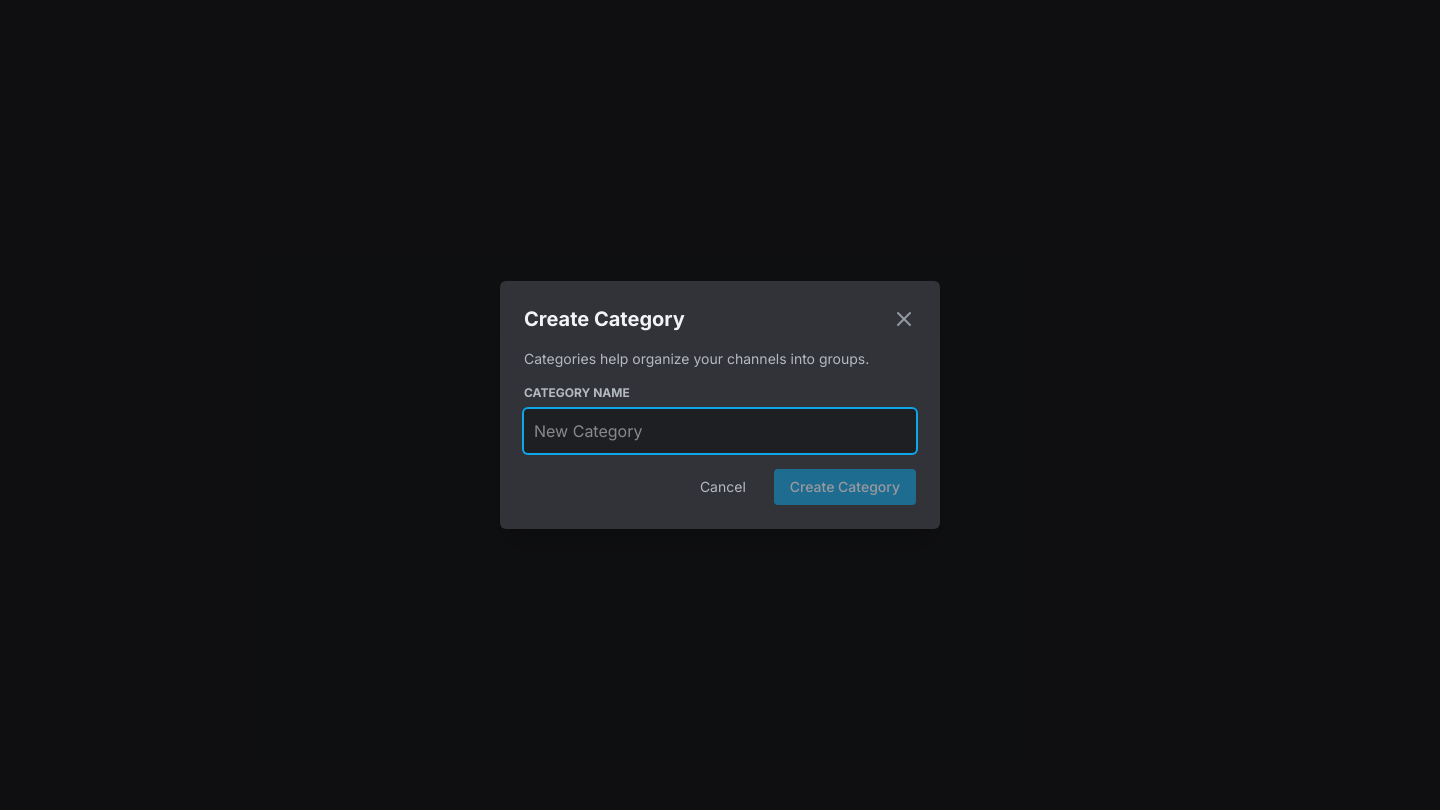
Test case: CreateCategoryModal › enables Create Category button when name is entered
In the field with placeholder "New Category": [720, 431] box x1=524 y1=409 x2=916 y2=453, type "Text Channels"
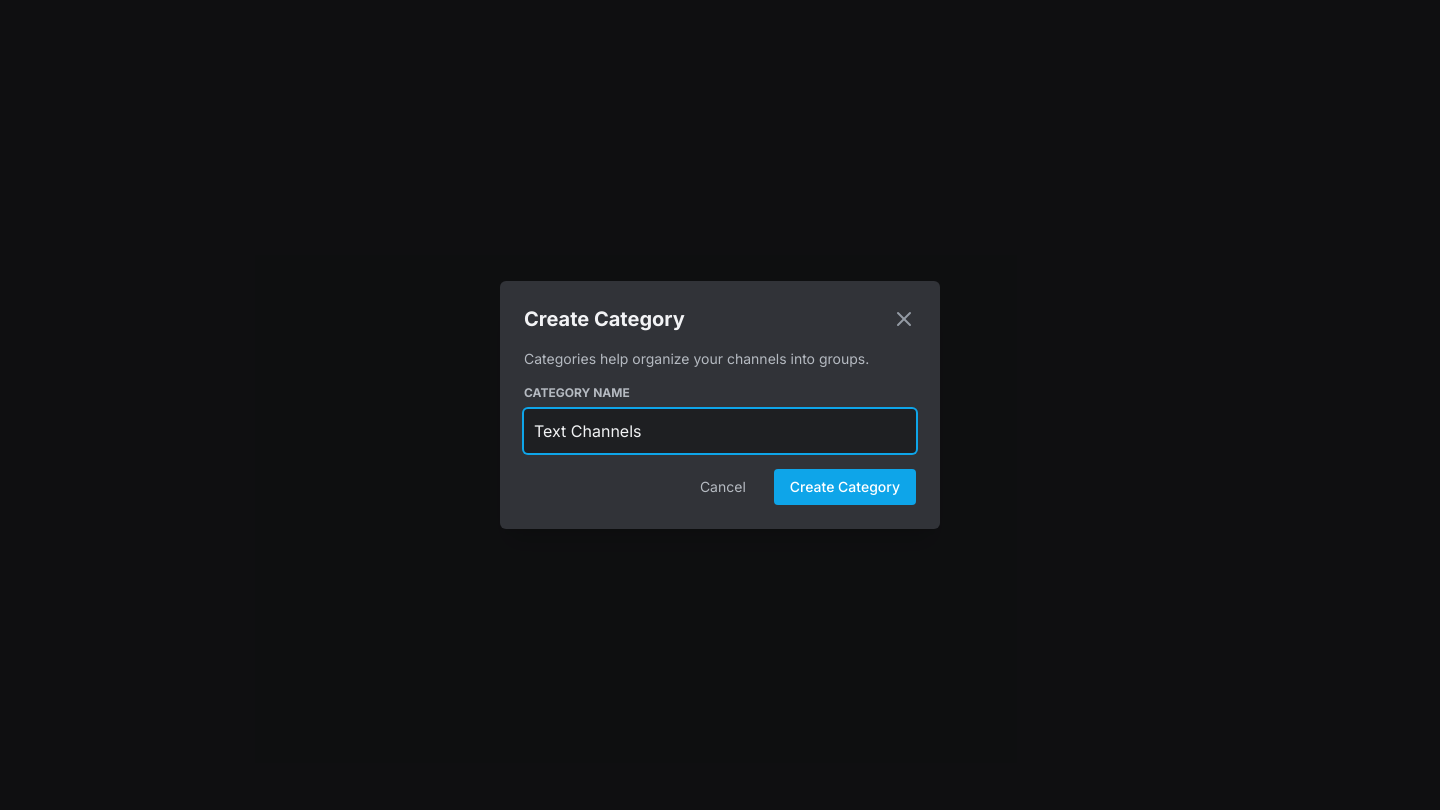
Expected: the button "Create Category" is enabled, x1=774 y1=469 x2=916 y2=505
